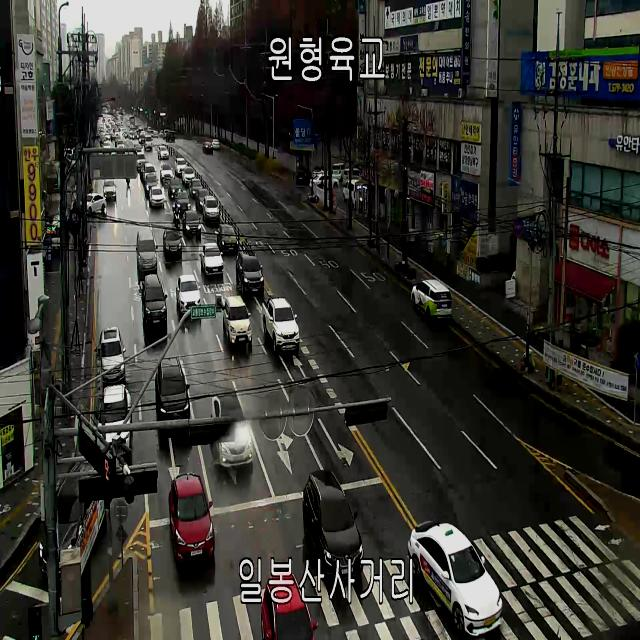Car: (408, 520, 502, 636), (39, 460, 99, 575), (302, 469, 363, 582), (169, 474, 215, 566), (261, 573, 318, 640), (212, 394, 252, 468), (96, 384, 132, 458), (155, 357, 190, 422), (262, 296, 300, 352), (411, 279, 452, 322), (100, 327, 126, 384), (223, 296, 252, 346), (142, 274, 168, 326), (236, 248, 264, 295), (176, 274, 201, 313), (136, 228, 158, 271), (201, 242, 224, 276), (216, 224, 238, 252), (80, 193, 107, 214), (163, 228, 182, 257), (342, 179, 362, 206), (183, 210, 201, 236), (309, 173, 339, 188), (203, 196, 219, 224), (342, 169, 362, 186), (176, 191, 191, 213), (195, 189, 209, 210), (150, 186, 164, 206), (168, 178, 182, 198), (103, 179, 116, 200), (182, 167, 196, 185), (160, 163, 173, 182), (332, 162, 344, 182), (145, 174, 157, 194), (174, 157, 187, 175), (190, 179, 202, 198), (296, 168, 308, 184), (313, 167, 328, 179), (137, 152, 146, 171), (158, 146, 169, 160), (144, 135, 153, 152), (203, 142, 213, 154), (117, 140, 125, 154), (166, 130, 175, 142), (103, 141, 111, 154), (134, 144, 143, 155), (211, 139, 220, 149), (139, 135, 145, 145), (163, 130, 169, 140), (132, 132, 139, 140), (154, 130, 158, 138), (129, 132, 134, 138), (159, 130, 163, 137), (140, 131, 145, 135)
